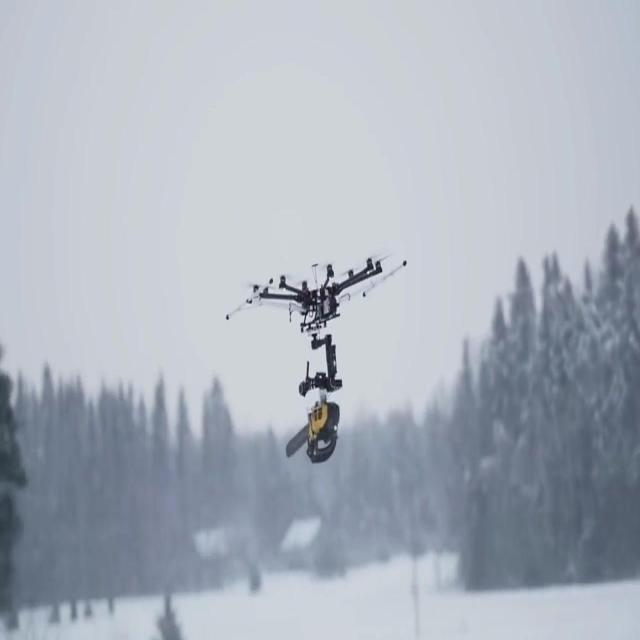drone: (223, 252, 409, 463)
